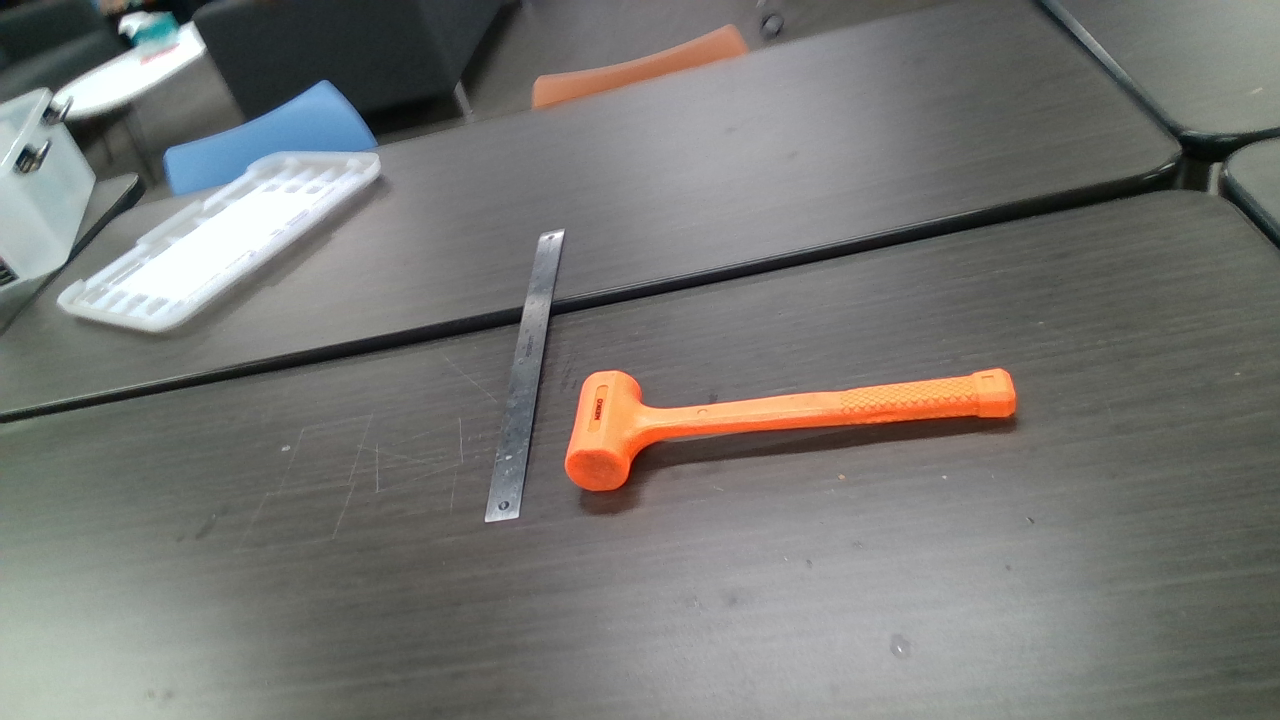Orange Hammer: (567, 367, 1015, 491)
